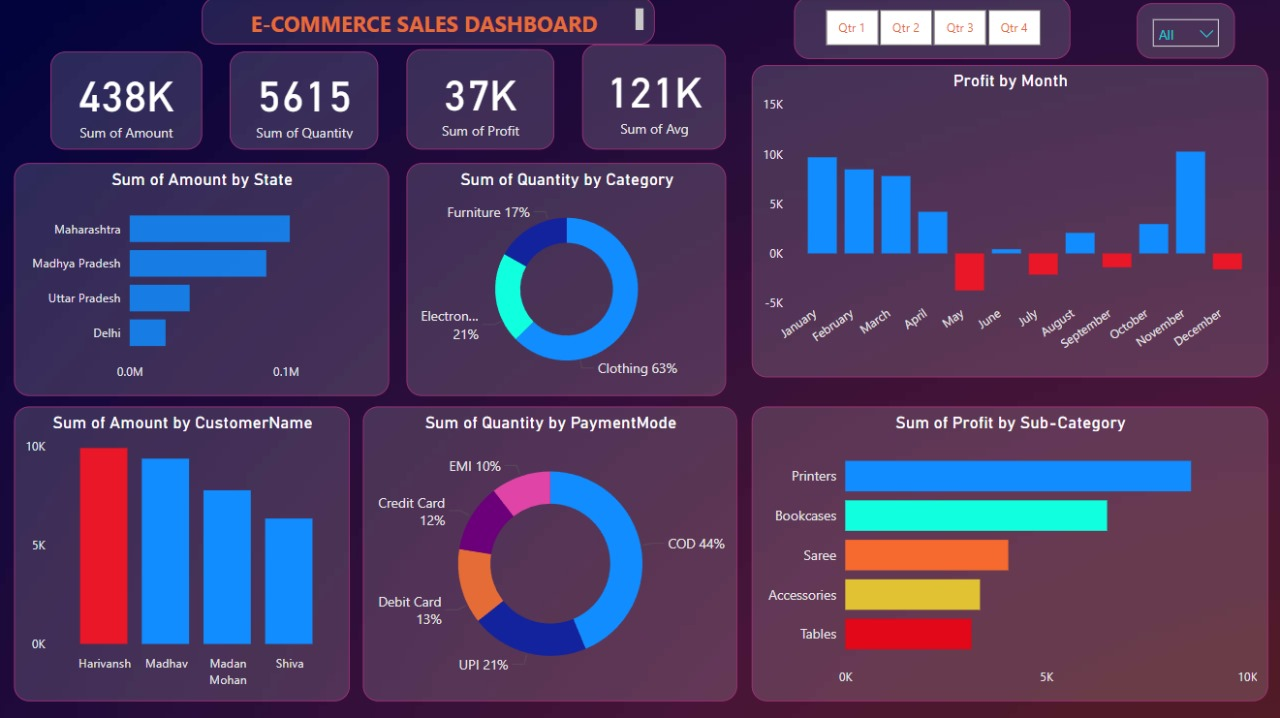

Layout of this report page (visuals, bound fields, positions):
{"tool":"powerbi","page":{"name":"Page 1","canvas":[1280,720],"ordinal":0},"visuals":[{"type":"textbox","box":[203.9,0,451.2,47.1],"z":0},{"type":"columnChart","title":" Profit by Month","fields":{"Y":["Details.Profit"],"Category":["Orders.Order Date.Variation.Date Hierarchy.Month"]},"box":[751.2,67.3,514.3,311],"z":1000},{"type":"barChart","fields":{"Category":["Details.Sub-Category"],"Y":["Details.Profit"]},"box":[751.2,407.9,514.3,293.5],"z":2000},{"type":"donutChart","fields":{"Category":["Details.Category"],"Y":["Details.Quantity"]},"box":[407.8,165.3,318.5,231.6],"z":3000},{"type":"donutChart","fields":{"Y":["Details.Quantity"],"Category":["Details.PaymentMode"]},"box":[364.8,407.9,372.9,293.5],"z":4000},{"type":"card","fields":{"Values":["Details.Amount"]},"box":[53.1,54.3,150.8,97.7],"z":5000},{"type":"card","fields":{"Values":["Details.Quantity"]},"box":[231.6,54.3,148.4,97.7],"z":6000},{"type":"card","fields":{"Values":["Details.Profit"]},"box":[407.8,51.9,147.2,100.1],"z":7000},{"type":"card","fields":{"Values":["Details.Avg"]},"box":[582.7,47.1,143.6,105],"z":8000},{"type":"barChart","fields":{"Category":["Orders.State"],"Y":["Details.Amount"]},"box":[17.3,165.3,373.3,232],"z":9000},{"type":"columnChart","fields":{"Category":["Orders.CustomerName"],"Y":["Details.Amount"]},"box":[17.3,408,334.7,293.3],"z":10000},{"type":"slicer","fields":{"Values":["Orders.Order Date.Variation.Date Hierarchy.Quarter"]},"box":[793.8,0,275.1,61.5],"z":10001},{"type":"slicer","fields":{"Values":["Orders.State"]},"box":[1135.3,6,97.7,55.5],"z":10002}]}

Visuals, with their boxes in screenshot pixels (x1, y1, x2, y2), scaled from the page's 1280x720 canvas onto the 1280x718 screenshot:
textbox: 204, 0, 655, 47
" Profit by Month" columnChart: 751, 67, 1266, 377
barChart - Details.Sub-Category x Details.Profit: 751, 407, 1266, 699
donutChart - Details.Category x Details.Quantity: 408, 165, 726, 396
donutChart - Details.Quantity x Details.PaymentMode: 365, 407, 738, 699
card - Details.Amount: 53, 54, 204, 152
card - Details.Quantity: 232, 54, 380, 152
card - Details.Profit: 408, 52, 555, 152
card - Details.Avg: 583, 47, 726, 152
barChart - Orders.State x Details.Amount: 17, 165, 391, 396
columnChart - Orders.CustomerName x Details.Amount: 17, 407, 352, 699
slicer - Orders.Order Date.Variation.Date Hierarchy.Quarter: 794, 0, 1069, 61
slicer - Orders.State: 1135, 6, 1233, 61
